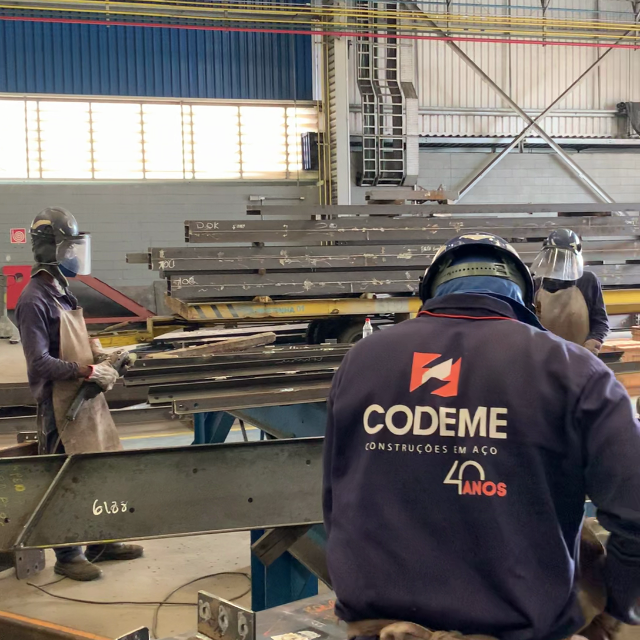face-shield: (55, 232, 96, 279)
glove: (86, 359, 122, 394)
helmet: (28, 206, 78, 235)
safety-shoe: (14, 206, 126, 444), (54, 546, 108, 581), (85, 544, 145, 564)
